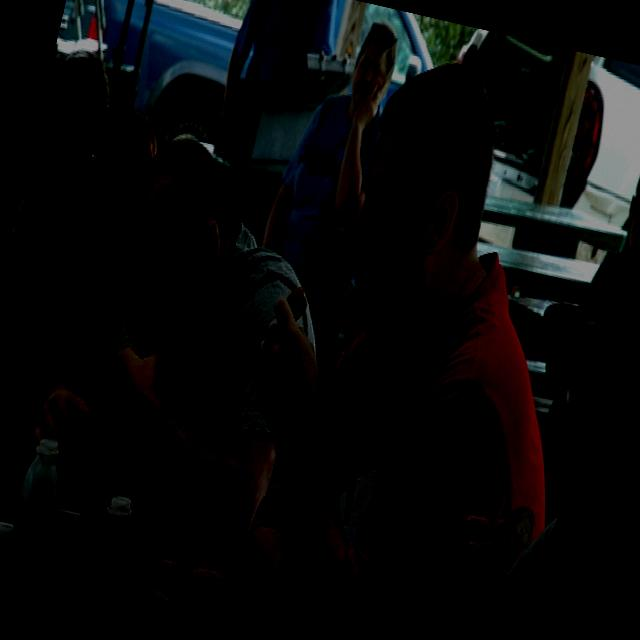Vehicle: (37, 0, 444, 205), (552, 54, 640, 250)
